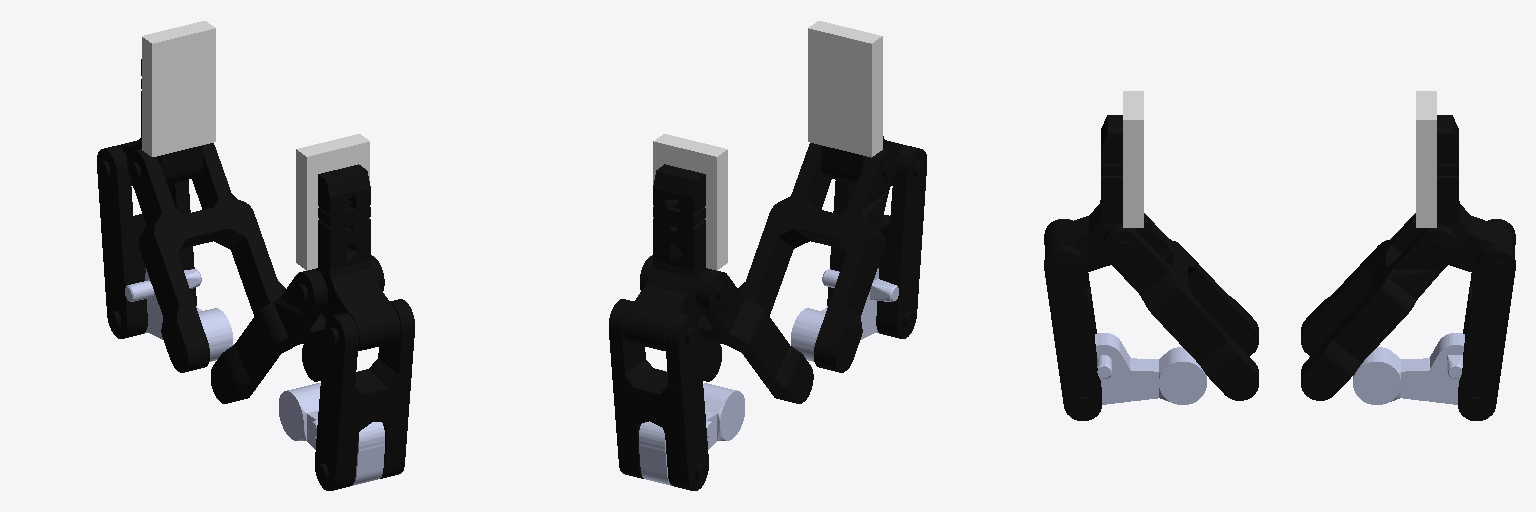
The robot description file, URDF, robot "robotiq_arg2f_85_model":
<?xml version="1.0" ?>
<!-- source: https://github.com/ros-industrial/robotiq/tree/kinetic-devel/robotiq_2f_85_gripper_visualization -->
<!-- =================================================================================== -->
<!-- |    This document was autogenerated by xacro from [local-path]/research/grasp/catkin_ws/src/robotiq/robotiq_2f_85_gripper_visualization/urdf/robotiq_arg2f_85_model.xacro | -->
<!-- |    EDITING THIS FILE BY HAND IS NOT RECOMMENDED                                 | -->
<!-- =================================================================================== -->
<robot name="robotiq_arg2f_85_model" xmlns:xacro="http://ros.org/wiki/xacro">
  <link name="robotiq_arg2f_base_link">
    <inertial>
      <origin rpy="0 0 0" xyz="8.625E-08 -4.6583E-06 0.03145"/>
      <mass value="0.22652"/>
      <inertia ixx="0.00020005" ixy="-4.2442E-10" ixz="-2.9069E-10" iyy="0.00017832" iyz="-3.4402E-08" izz="0.00013478"/>
    </inertial>
    <visual>
      <origin rpy="0 0 0" xyz="0 0 0"/>
      <geometry>
        <mesh filename="./meshes/robotiq_arg2f_base_link.stl"/>
      </geometry>
      <material name="">
        <color rgba="0.1 0.1 0.1 1"/>
      </material>
    </visual>
    <collision>
      <origin rpy="0 0 0" xyz="0 0 0"/>
      <geometry>
        <mesh filename="./meshes/robotiq_arg2f_base_link.stl"/>
      </geometry>
    </collision>
  </link>
  <link name="left_outer_knuckle">
    <inertial>
      <origin rpy="0 0 0" xyz="-0.000200000000003065 0.0199435877845359 0.0292245259211331"/>
      <mass value="0.00853198276973456"/>
      <inertia ixx="2.89328108496468E-06" ixy="-1.57935047237397E-19" ixz="-1.93980378593255E-19" iyy="1.86719750325683E-06" iyz="-1.21858577871576E-06" izz="1.21905238907251E-06"/>
    </inertial>
    <visual>
      <origin rpy="0 0 0" xyz="0 0 0"/>
      <geometry>
        <mesh filename="./meshes/robotiq_arg2f_85_outer_knuckle_vhacd.obj" scale="0.001 0.001 0.001"/>
      </geometry>
      <material name="">
        <color rgba="0.792156862745098 0.819607843137255 0.933333333333333 1"/>
      </material>
    </visual>
    <collision>
      <origin rpy="0 0 0" xyz="0 0 0"/>
      <geometry>
        <mesh filename="./meshes/robotiq_arg2f_85_outer_knuckle_vhacd.obj" scale="0.001 0.001 0.001"/>
      </geometry>
    </collision>
  </link>
  <link name="left_outer_finger">
    <inertial>
      <origin rpy="0 0 0" xyz="0.00030115855001899 0.0373907951953854 -0.0208027427000385"/>
      <mass value="0.022614240507152"/>
      <inertia ixx="1.52518312458174E-05" ixy="9.76583423954399E-10" ixz="-5.43838577022588E-10" iyy="6.17694243867776E-06" iyz="6.78636130740228E-06" izz="1.16494917907219E-05"/>
    </inertial>
    <visual>
      <origin rpy="0 0 0" xyz="0 0 0"/>
      <geometry>
        <mesh filename="./meshes/robotiq_arg2f_85_outer_finger_vhacd.obj" scale="0.001 0.001 0.001"/>
      </geometry>
      <material name="">
        <color rgba="0.1 0.1 0.1 1"/>
      </material>
    </visual>
    <collision>
      <origin rpy="0 0 0" xyz="0 0 0"/>
      <geometry>
        <mesh filename="./meshes/robotiq_arg2f_85_outer_finger_vhacd.obj" scale="0.001 0.001 0.001"/>
      </geometry>
    </collision>
  </link>
  <link name="left_inner_finger">
    <inertial>
      <origin rpy="0 0 0" xyz="0.000299999999999317 0.0160078233491243 -0.0136945669206257"/>
      <mass value="0.0104003125914103"/>
      <inertia ixx="2.71909453810972E-06" ixy="1.35402465472579E-21" ixz="-7.1817349065269E-22" iyy="7.69100314106116E-07" iyz="6.74715432769696E-07" izz="2.30315190420171E-06"/>
    </inertial>
    <visual>
      <origin rpy="0 0 0" xyz="0 0 0"/>
      <geometry>
        <mesh filename="./meshes/robotiq_arg2f_85_inner_finger_vhacd.obj" scale="0.001 0.001 0.001"/>
      </geometry>
      <material name="">
        <color rgba="0.1 0.1 0.1 1"/>
      </material>
    </visual>
    <collision>
      <origin rpy="0 0 0" xyz="0 0 0"/>
      <geometry>
        <mesh filename="./meshes/robotiq_arg2f_85_inner_finger_vhacd.obj" scale="0.001 0.001 0.001"/>
      </geometry>
    </collision>
  </link>
  <link name="left_inner_finger_pad">
    <inertial>
      <origin rpy="0 0 0" xyz="0.000299999999999317 0.0160078233491243 -0.0136945669206257"/>
      <mass value="0.001"/>
      <inertia ixx="2.71909453810972E-06" ixy="1.35402465472579E-21" ixz="-7.1817349065269E-22" iyy="7.69100314106116E-07" iyz="6.74715432769696E-07" izz="2.30315190420171E-06"/>
    </inertial>
    <visual>
      <origin rpy="0 0 0" xyz="0 0 0"/>
      <geometry>
        <box size="0.022 0.00635 0.0375"/>
      </geometry>
      <material name="">
        <color rgba="0.9 0.9 0.9 1"/>
      </material>
    </visual>
    <collision>
      <origin rpy="0 0 0" xyz="0 0 0"/>
      <geometry>
        <box size="0.022 0.00635 0.0375"/>
      </geometry>
      <material name="">
        <color rgba="0.9 0.0 0.0 1"/>
      </material>
    </collision>
  </link>
  <link name="left_inner_knuckle">
    <inertial>
      <origin rpy="0 0 0" xyz="0.000123011831763771 0.0507850843201817 0.00103968640075166"/>
      <mass value="0.0271177346495152"/>
      <inertia ixx="2.61910379223783E-05" ixy="-2.43616858946494E-07" ixz="-6.37789906117123E-09" iyy="2.8270243746167E-06" iyz="-5.37200748039765E-07" izz="2.83695868220296E-05"/>
    </inertial>
    <visual>
      <origin rpy="0 0 0" xyz="0 0 0"/>
      <geometry>
        <mesh filename="./meshes/robotiq_arg2f_85_inner_knuckle_vhacd.obj" scale="0.001 0.001 0.001"/>
      </geometry>
      <material name="">
        <color rgba="0.1 0.1 0.1 1"/>
      </material>
    </visual>
    <collision>
      <origin rpy="0 0 0" xyz="0 0 0"/>
      <geometry>
        <mesh filename="./meshes/robotiq_arg2f_85_inner_knuckle_vhacd.obj" scale="0.001 0.001 0.001"/>
      </geometry>
    </collision>
  </link>
  <link name="right_outer_knuckle">
    <inertial>
      <origin rpy="0 0 0" xyz="-0.000200000000003065 0.0199435877845359 0.0292245259211331"/>
      <mass value="0.00853198276973456"/>
      <inertia ixx="2.89328108496468E-06" ixy="-1.57935047237397E-19" ixz="-1.93980378593255E-19" iyy="1.86719750325683E-06" iyz="-1.21858577871576E-06" izz="1.21905238907251E-06"/>
    </inertial>
    <visual>
      <origin rpy="0 0 0" xyz="0 0 0"/>
      <geometry>
        <mesh filename="./meshes/robotiq_arg2f_85_outer_knuckle_vhacd.obj" scale="0.001 0.001 0.001"/>
      </geometry>
      <material name="">
        <color rgba="0.792156862745098 0.819607843137255 0.933333333333333 1"/>
      </material>
    </visual>
    <collision>
      <origin rpy="0 0 0" xyz="0 0 0"/>
      <geometry>
        <mesh filename="./meshes/robotiq_arg2f_85_outer_knuckle_vhacd.obj" scale="0.001 0.001 0.001"/>
      </geometry>
    </collision>
  </link>
  <link name="right_outer_finger">
    <inertial>
      <origin rpy="0 0 0" xyz="0.00030115855001899 0.0373907951953854 -0.0208027427000385"/>
      <mass value="0.022614240507152"/>
      <inertia ixx="1.52518312458174E-05" ixy="9.76583423954399E-10" ixz="-5.43838577022588E-10" iyy="6.17694243867776E-06" iyz="6.78636130740228E-06" izz="1.16494917907219E-05"/>
    </inertial>
    <visual>
      <origin rpy="0 0 0" xyz="0 0 0"/>
      <geometry>
        <mesh filename="./meshes/robotiq_arg2f_85_outer_finger_vhacd.obj" scale="0.001 0.001 0.001"/>
      </geometry>
      <material name="">
        <color rgba="0.1 0.1 0.1 1"/>
      </material>
    </visual>
    <collision>
      <origin rpy="0 0 0" xyz="0 0 0"/>
      <geometry>
        <mesh filename="./meshes/robotiq_arg2f_85_outer_finger_vhacd.obj" scale="0.001 0.001 0.001"/>
      </geometry>
    </collision>
  </link>
  <link name="right_inner_finger">
    <inertial>
      <origin rpy="0 0 0" xyz="0.000299999999999317 0.0160078233491243 -0.0136945669206257"/>
      <mass value="0.0104003125914103"/>
      <inertia ixx="2.71909453810972E-06" ixy="1.35402465472579E-21" ixz="-7.1817349065269E-22" iyy="7.69100314106116E-07" iyz="6.74715432769696E-07" izz="2.30315190420171E-06"/>
    </inertial>
    <visual>
      <origin rpy="0 0 0" xyz="0 0 0"/>
      <geometry>
        <mesh filename="./meshes/robotiq_arg2f_85_inner_finger_vhacd.obj" scale="0.001 0.001 0.001"/>
      </geometry>
      <material name="">
        <color rgba="0.1 0.1 0.1 1"/>
      </material>
    </visual>
    <collision>
      <origin rpy="0 0 0" xyz="0 0 0"/>
      <geometry>
        <mesh filename="./meshes/robotiq_arg2f_85_inner_finger_vhacd.obj" scale="0.001 0.001 0.001"/>
      </geometry>
    </collision>
  </link>
  <link name="right_inner_finger_pad">
    <inertial>
      <origin rpy="0 0 0" xyz="0.000299999999999317 0.0160078233491243 -0.0136945669206257"/>
      <mass value="0.001"/>
      <inertia ixx="2.71909453810972E-06" ixy="1.35402465472579E-21" ixz="-7.1817349065269E-22" iyy="7.69100314106116E-07" iyz="6.74715432769696E-07" izz="2.30315190420171E-06"/>
    </inertial>
    <visual>
      <origin rpy="0 0 0" xyz="0 0 0"/>
      <geometry>
        <box size="0.022 0.00635 0.0375"/>
      </geometry>
      <material name="">
        <color rgba="0.9 0.9 0.9 1"/>
      </material>
    </visual>
    <collision>
      <origin rpy="0 0 0" xyz="0 0 0"/>
      <geometry>
        <box size="0.022 0.00635 0.0375"/>
      </geometry>
      <material name="">
        <color rgba="0.9 0.0 0.0 1"/>
      </material>
    </collision>
  </link>
  <link name="right_inner_knuckle">
    <inertial>
      <origin rpy="0 0 0" xyz="0.000123011831763771 0.0507850843201817 0.00103968640075166"/>
      <mass value="0.0271177346495152"/>
      <inertia ixx="2.61910379223783E-05" ixy="-2.43616858946494E-07" ixz="-6.37789906117123E-09" iyy="2.8270243746167E-06" iyz="-5.37200748039765E-07" izz="2.83695868220296E-05"/>
    </inertial>
    <visual>
      <origin rpy="0 0 0" xyz="0 0 0"/>
      <geometry>
        <mesh filename="./meshes/robotiq_arg2f_85_inner_knuckle_vhacd.obj" scale="0.001 0.001 0.001"/>
      </geometry>
      <material name="">
        <color rgba="0.1 0.1 0.1 1"/>
      </material>
    </visual>
    <collision>
      <origin rpy="0 0 0" xyz="0 0 0"/>
      <geometry>
        <mesh filename="./meshes/robotiq_arg2f_85_inner_knuckle_vhacd.obj" scale="0.001 0.001 0.001"/>
      </geometry>
    </collision>
  </link>
  <joint name="finger_joint" type="revolute">
    <origin rpy="0 0 3.14159265359" xyz="0 -0.0306011 0.054904"/>
    <parent link="robotiq_arg2f_base_link"/>
    <child link="left_outer_knuckle"/>
    <axis xyz="1 0 0"/>
    <limit effort="1000" lower="0" upper="0.8" velocity="2.0"/>
  </joint>
  <joint name="left_outer_finger_joint" type="fixed">
    <origin rpy="0 0 0" xyz="0 0.0315 -0.0041"/>
    <parent link="left_outer_knuckle"/>
    <child link="left_outer_finger"/>
    <axis xyz="1 0 0"/>
  </joint>
  <joint name="left_inner_knuckle_joint" type="revolute">
    <!-- <origin xyz="0 ${reflect * -0.0127} 0.06142" rpy="${pi / 2 + .725} 0 ${(reflect - 1) * pi / 2}" /> -->
    <origin rpy="0 0 3.14159265359" xyz="0 -0.0127 0.06142"/>
    <parent link="robotiq_arg2f_base_link"/>
    <child link="left_inner_knuckle"/>
    <axis xyz="1 0 0"/>
    <limit effort="1000" lower="0" upper="0.8757" velocity="2.0"/>
    <mimic joint="finger_joint" multiplier="1" offset="0"/>
  </joint>
  <joint name="left_inner_finger_joint" type="revolute">
    <origin rpy="0 0 0" xyz="0 0.0061 0.0471"/>
    <parent link="left_outer_finger"/>
    <child link="left_inner_finger"/>
    <axis xyz="1 0 0"/>
    <limit effort="1000" lower="-1" upper="0.8757" velocity="2.0"/>
    <mimic joint="finger_joint" multiplier="-1" offset="0"/>
  </joint>
  <joint name="left_inner_finger_pad_joint" type="fixed">
    <origin rpy="0 0 0" xyz="0 -0.0220203446692936 0.03242"/>
    <parent link="left_inner_finger"/>
    <child link="left_inner_finger_pad"/>
    <axis xyz="0 0 1"/>
  </joint>
  <joint name="right_outer_knuckle_joint" type="revolute">
    <origin rpy="0 0 0" xyz="0 0.0306011 0.054904"/>
    <parent link="robotiq_arg2f_base_link"/>
    <child link="right_outer_knuckle"/>
    <axis xyz="1 0 0"/>
    <limit effort="1000" lower="0" upper="0.81" velocity="2.0"/>
    <mimic joint="finger_joint" multiplier="1" offset="0"/>
  </joint>
  <joint name="right_outer_finger_joint" type="fixed">
    <origin rpy="0 0 0" xyz="0 0.0315 -0.0041"/>
    <parent link="right_outer_knuckle"/>
    <child link="right_outer_finger"/>
    <axis xyz="1 0 0"/>
  </joint>
  <joint name="right_inner_knuckle_joint" type="revolute">
    <!-- <origin xyz="0 ${reflect * -0.0127} 0.06142" rpy="${pi / 2 + .725} 0 ${(reflect - 1) * pi / 2}" /> -->
    <origin rpy="0 0 0.0" xyz="0 0.0127 0.06142"/>
    <parent link="robotiq_arg2f_base_link"/>
    <child link="right_inner_knuckle"/>
    <axis xyz="1 0 0"/>
    <limit effort="1000" lower="0" upper="0.8757" velocity="2.0"/>
    <mimic joint="finger_joint" multiplier="1" offset="0"/>
  </joint>
  <joint name="right_inner_finger_joint" type="revolute">
    <origin rpy="0 0 0" xyz="0 0.0061 0.0471"/>
    <parent link="right_outer_finger"/>
    <child link="right_inner_finger"/>
    <axis xyz="1 0 0"/>
    <limit effort="1000" lower="-1" upper="0.8757" velocity="2.0"/>
    <mimic joint="finger_joint" multiplier="-1" offset="0"/>
  </joint>
  <joint name="right_inner_finger_pad_joint" type="fixed">
    <origin rpy="0 0 0" xyz="0 -0.0220203446692936 0.03242"/>
    <parent link="right_inner_finger"/>
    <child link="right_inner_finger_pad"/>
    <axis xyz="0 0 1"/>
  </joint>
  <transmission name="finger_joint_trans">
    <type>transmission_interface/SimpleTransmission</type>
    <joint name="finger_joint">
      <hardwareInterface>PositionJointInterface</hardwareInterface>
    </joint>
    <actuator name="finger_joint_motor">
      <mechanicalReduction>1</mechanicalReduction>
    </actuator>
  </transmission>
</robot>

--- Facts derived from the render (not from the file) ---
The picture shows the robot from 3 angles, left to right: view 1: azimuth 30°, elevation 25°; view 2: azimuth 150°, elevation 25°; view 3: azimuth 270°, elevation 25°; orthographic projection.
Robot: robotiq_arg2f_85_model — 11 links, 10 joints (6 revolute, 4 fixed); root link robotiq_arg2f_base_link; default pose: all joints at 0.
Visible links, largest first — view 1: right_inner_knuckle, left_outer_finger, left_inner_finger, right_inner_finger_pad, left_inner_knuckle, right_outer_finger, left_inner_finger_pad, left_outer_knuckle, right_outer_knuckle, right_inner_finger; view 2: left_inner_knuckle, right_outer_finger, right_inner_finger, left_inner_finger_pad, right_inner_knuckle, left_outer_finger, right_inner_finger_pad, right_outer_knuckle, left_outer_knuckle, left_inner_finger; view 3: right_inner_knuckle, left_inner_knuckle, right_outer_finger, left_outer_finger, left_outer_knuckle, right_outer_knuckle, right_inner_finger, left_inner_finger, left_inner_finger_pad, right_inner_finger_pad.
Link boxes in pixels (x1,y1,x2,y2): right_inner_knuckle: (127, 143, 285, 372); left_outer_finger: (315, 299, 414, 490); left_inner_finger: (316, 164, 400, 350); right_inner_finger_pad: (142, 21, 215, 156); left_inner_knuckle: (211, 255, 384, 403); right_outer_finger: (97, 146, 196, 338); left_inner_finger_pad: (296, 134, 369, 270); left_outer_knuckle: (279, 383, 384, 485); right_outer_knuckle: (125, 268, 232, 361); right_inner_finger: (117, 59, 202, 185); left_inner_knuckle: (738, 143, 895, 372); right_outer_finger: (609, 299, 708, 490); right_inner_finger: (623, 164, 707, 350); left_inner_finger_pad: (808, 21, 882, 157); right_inner_knuckle: (640, 255, 813, 403); left_outer_finger: (827, 146, 926, 338); right_inner_finger_pad: (653, 134, 727, 270); right_outer_knuckle: (639, 383, 744, 485); left_outer_knuckle: (791, 268, 898, 361); left_inner_finger: (822, 136, 906, 185); right_inner_knuckle: (1301, 213, 1456, 400); left_inner_knuckle: (1103, 213, 1258, 400); right_outer_finger: (1458, 219, 1515, 420); left_outer_finger: (1044, 219, 1101, 420); left_outer_knuckle: (1095, 333, 1206, 404); right_outer_knuckle: (1353, 333, 1464, 404); right_inner_finger: (1420, 115, 1514, 272); left_inner_finger: (1045, 115, 1139, 272); left_inner_finger_pad: (1123, 91, 1143, 227); right_inner_finger_pad: (1416, 91, 1436, 227).
Bounding box of the posed robot: 0.0391 × 0.1485 × 0.1043 m (x, y, z).
8 mesh visuals loaded from 5 distinct referenced files (4 OBJ); not drawn: 1 (reference not matched to a file when rendering).